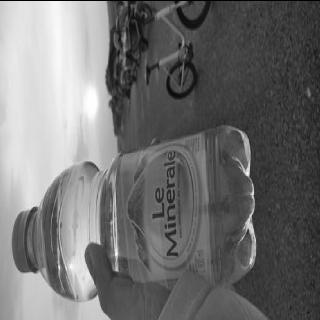plastic_bottles: (10, 120, 258, 304)
